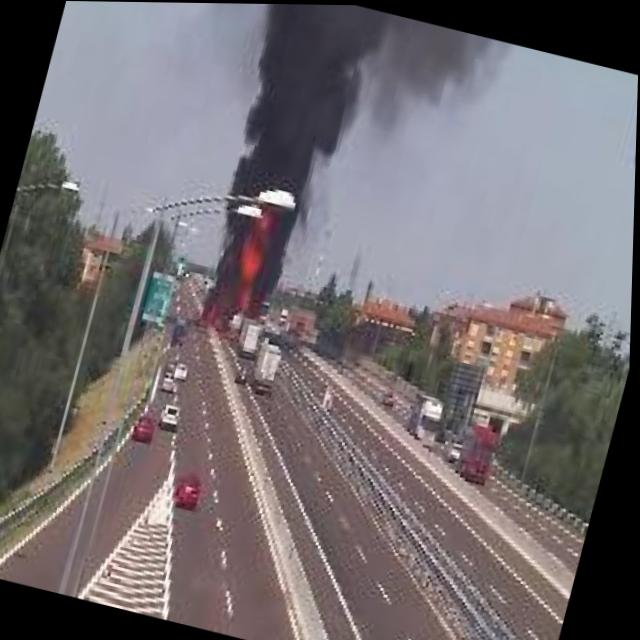fire: (199, 208, 283, 333)
